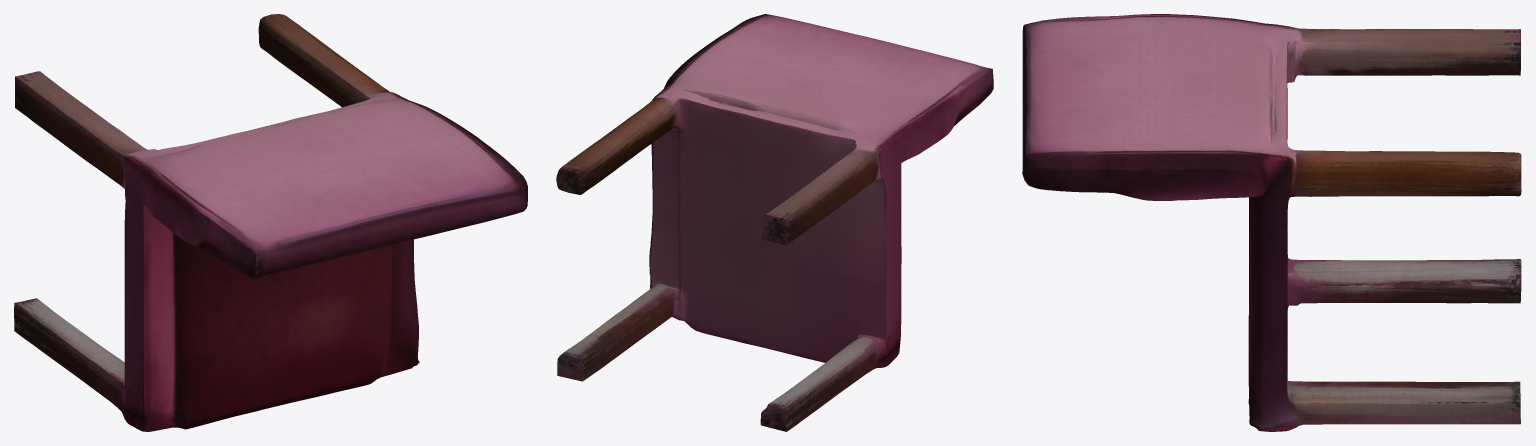
Rendered from out_sim.glb.
3 views of the same model, side by side, from view 1: azimuth 30°, elevation 25°; view 2: azimuth 150°, elevation 25°; view 3: azimuth 270°, elevation 25° (orthographic). The views are drawn at different scales.
Parts seen in each view (by area): view 1: world; view 2: world; view 3: world.
Part boxes in pixels (left/top/right/bottom): world: left=14, top=14, right=527, bottom=431; world: left=556, top=14, right=993, bottom=431; world: left=1022, top=14, right=1521, bottom=431.
Bounding box in the file's own units: 0.6989 × 0.6401 × 1.
1 material, 1 textured.
